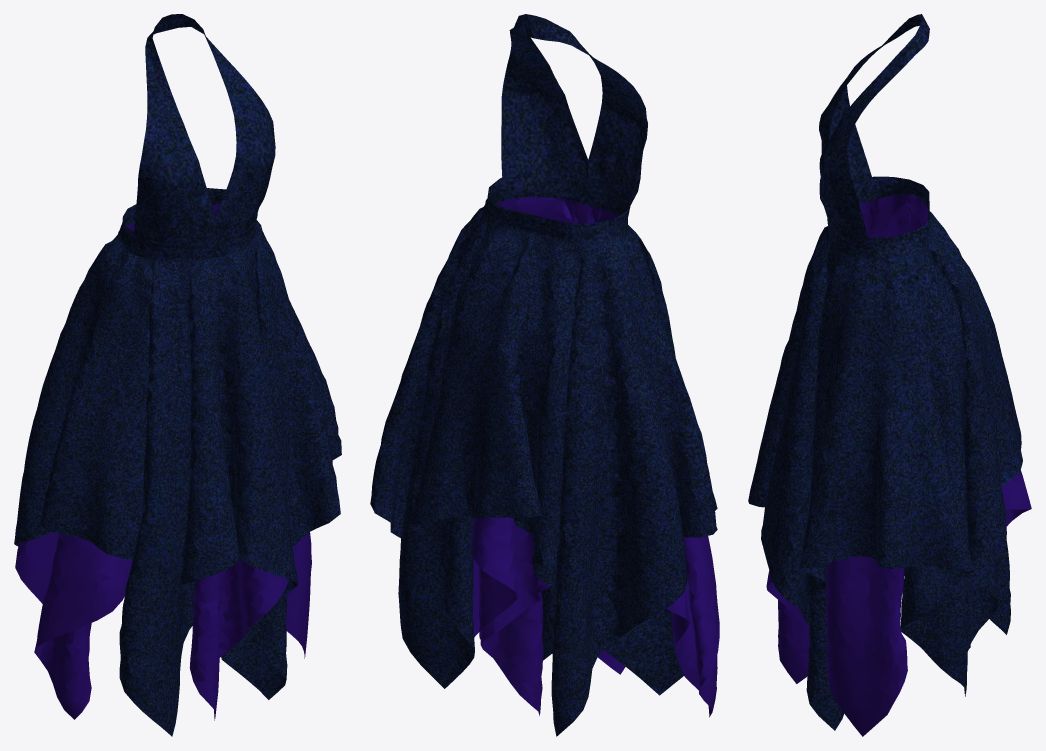
Rendered from elvs-double-handkerchief-halter-dress.glb.
3 views of the same model, side by side, from view 1: azimuth 30°, elevation 25°; view 2: azimuth 150°, elevation 25°; view 3: azimuth 270°, elevation 25° (orthographic). The views are drawn at different scales.
Visible parts, largest first — view 1: double handkerchief halter dress; view 2: double handkerchief halter dress; view 3: double handkerchief halter dress.
Boxes of the visible parts, bbox=[...] form: double handkerchief halter dress: bbox=[14, 14, 341, 736]; double handkerchief halter dress: bbox=[370, 14, 719, 736]; double handkerchief halter dress: bbox=[748, 14, 1031, 736].
Bounding box in the file's own units: 63.58 × 133 × 49.82.
1 material, 1 textured.
